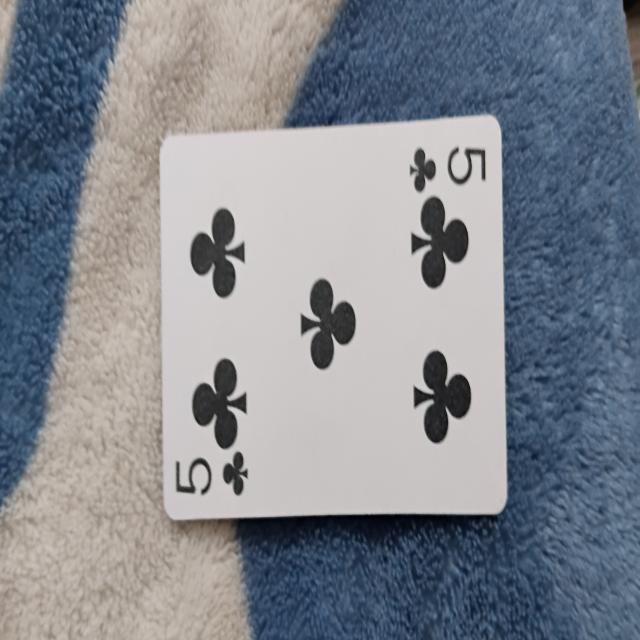5C: (160, 111, 506, 522)
